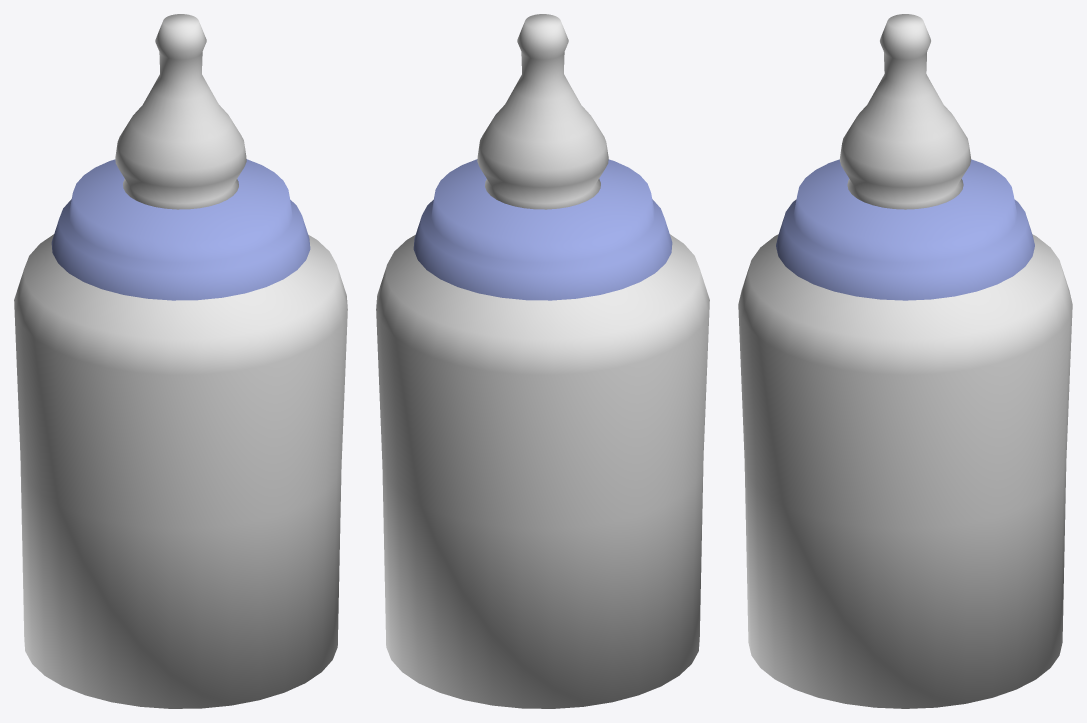
The model's file is bottle.glb.
3 views of the same model, side by side, from view 1: azimuth 30°, elevation 25°; view 2: azimuth 150°, elevation 25°; view 3: azimuth 270°, elevation 25° (orthographic).
Visible parts, largest first — view 1: Bottle, Lid, Teat; view 2: Bottle, Lid, Teat; view 3: Bottle, Lid, Teat.
Boxes of the visible parts, <box> form: Bottle: <box>14,234,347,708</box>; Lid: <box>51,159,310,300</box>; Teat: <box>115,14,246,209</box>; Bottle: <box>376,234,709,708</box>; Lid: <box>413,159,672,300</box>; Teat: <box>477,14,608,209</box>; Bottle: <box>738,234,1072,708</box>; Lid: <box>776,159,1034,300</box>; Teat: <box>839,14,971,209</box>.
Size of the model in its own units: 0.0851 by 0.1771 by 0.0851.
